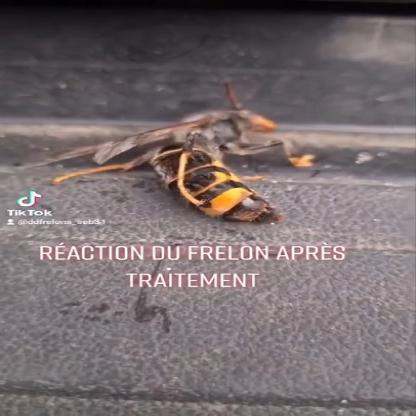hornet: (69, 88, 343, 233)
